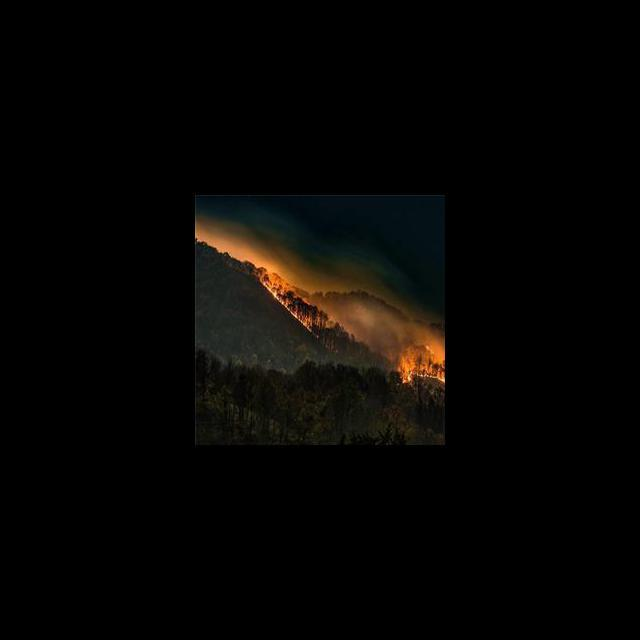Fire: (256, 262, 444, 387)
